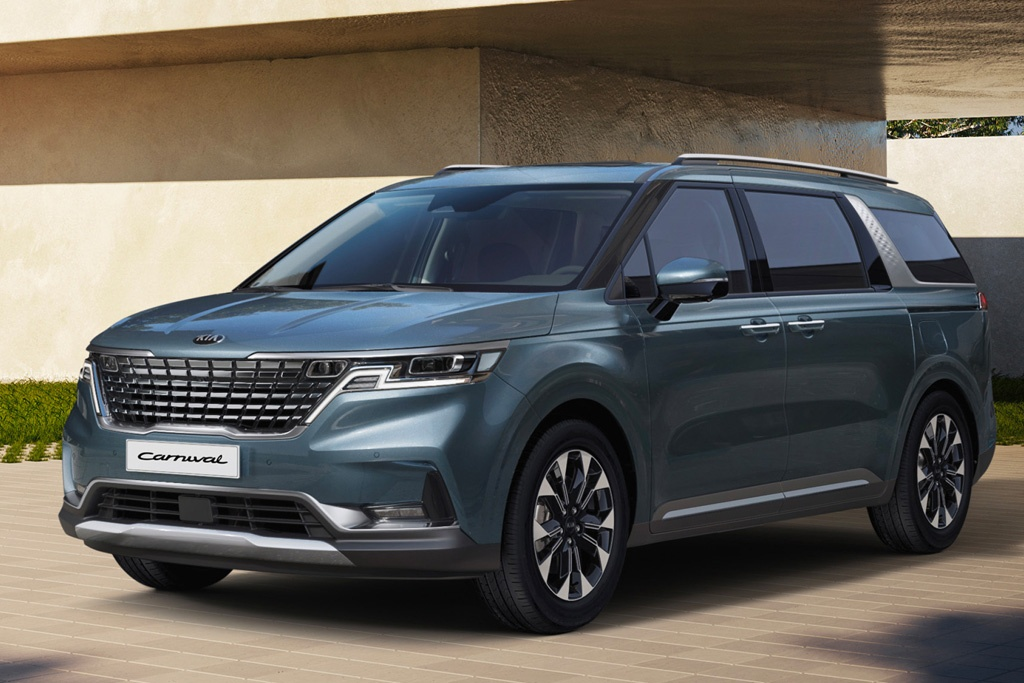car: (57, 153, 997, 637)
